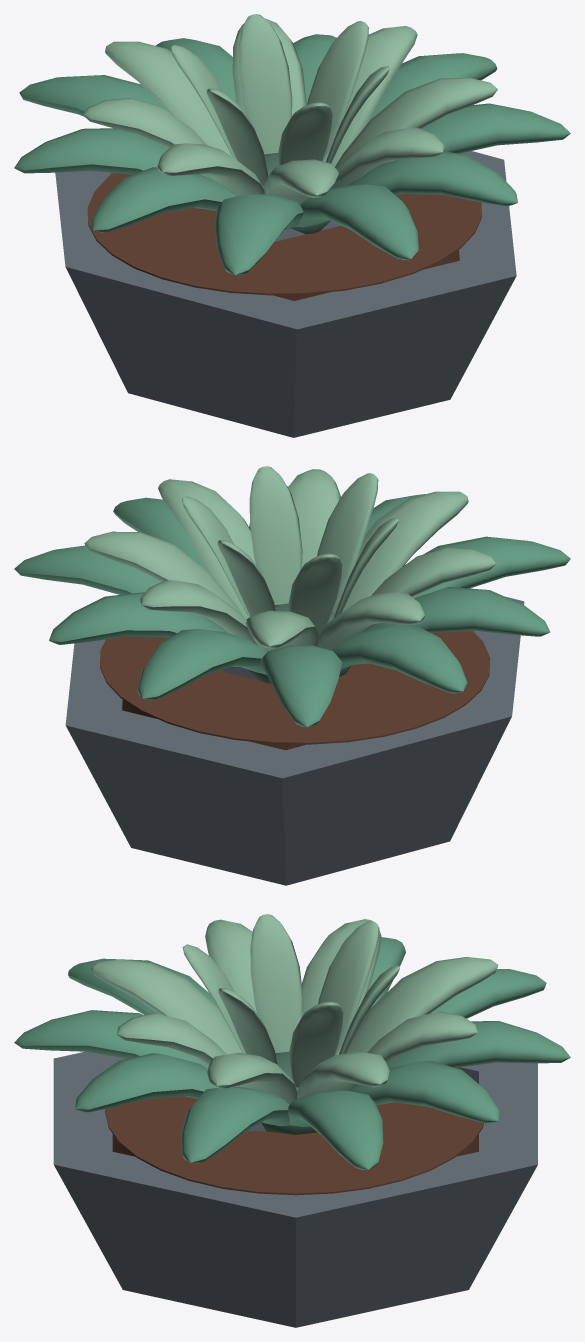
The picture shows the model from 3 angles, top to bottom: view 1: azimuth 30°, elevation 25°; view 2: azimuth 150°, elevation 25°; view 3: azimuth 270°, elevation 25°; orthographic projection.
Visible parts, largest first — view 1: desktop-plant-pot, desktop-plant-accent, desktop-plant-foliage, desktop-plant-soil; view 2: desktop-plant-pot, desktop-plant-accent, desktop-plant-foliage, desktop-plant-soil; view 3: desktop-plant-pot, desktop-plant-accent, desktop-plant-foliage, desktop-plant-soil, desktop-plant-stems.
Boxes of the visible parts, x1=… form: desktop-plant-pot: x1=55, y1=151, x2=516, y2=437; desktop-plant-accent: x1=83, y1=14, x2=497, y2=204; desktop-plant-foliage: x1=14, y1=34, x2=570, y2=275; desktop-plant-soil: x1=87, y1=173, x2=481, y2=300; desktop-plant-pot: x1=65, y1=588, x2=524, y2=885; desktop-plant-accent: x1=84, y1=466, x2=496, y2=651; desktop-plant-foliage: x1=14, y1=486, x2=570, y2=727; desktop-plant-soil: x1=100, y1=631, x2=490, y2=750; desktop-plant-pot: x1=53, y1=1051, x2=537, y2=1327; desktop-plant-accent: x1=91, y1=914, x2=498, y2=1104; desktop-plant-foliage: x1=14, y1=937, x2=570, y2=1169; desktop-plant-soil: x1=105, y1=1067, x2=483, y2=1195; desktop-plant-stems: x1=261, y1=1051, x2=317, y2=1134.
Size of the model in its own units: 0.2131 by 0.1285 by 0.2196.
